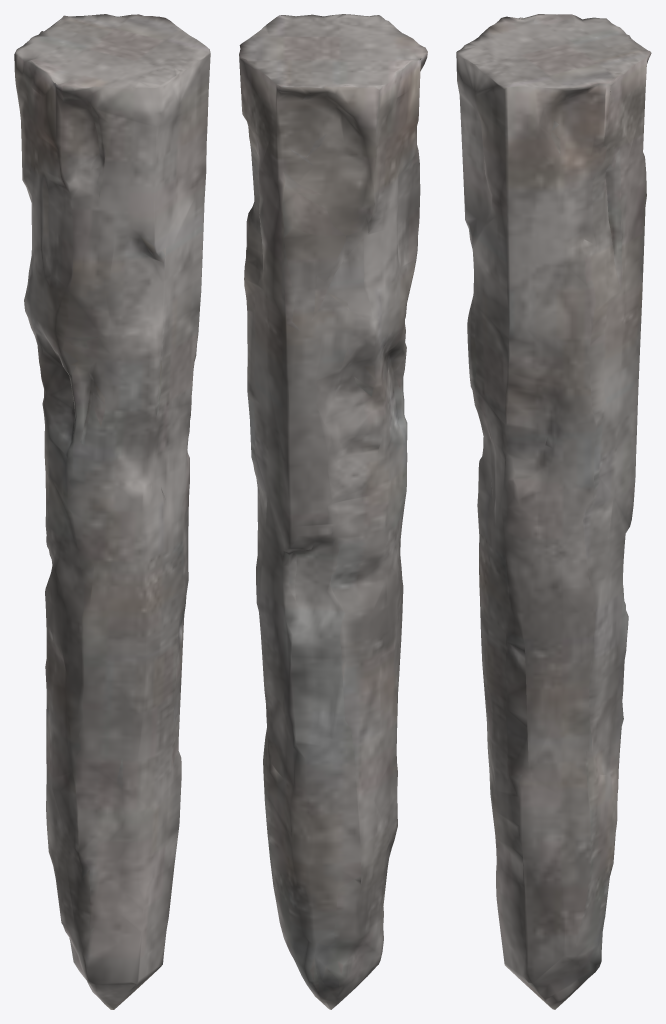
Rendered from SM_stalactic_01.glb.
The picture shows the model from 3 angles, left to right: view 1: azimuth 30°, elevation 25°; view 2: azimuth 150°, elevation 25°; view 3: azimuth 270°, elevation 25°; orthographic projection.
Visible parts, largest first — view 1: SM_stalactic_01; view 2: SM_stalactic_01; view 3: SM_stalactic_01.
Boxes of the visible parts, <box> form: SM_stalactic_01: <box>14,14,210,1009</box>; SM_stalactic_01: <box>239,14,427,1009</box>; SM_stalactic_01: <box>456,14,651,1009</box>.
Bounding box in the file's own units: 0.8793 × 5.45 × 1.01.
Materials: 1 (1 with a texture image).
